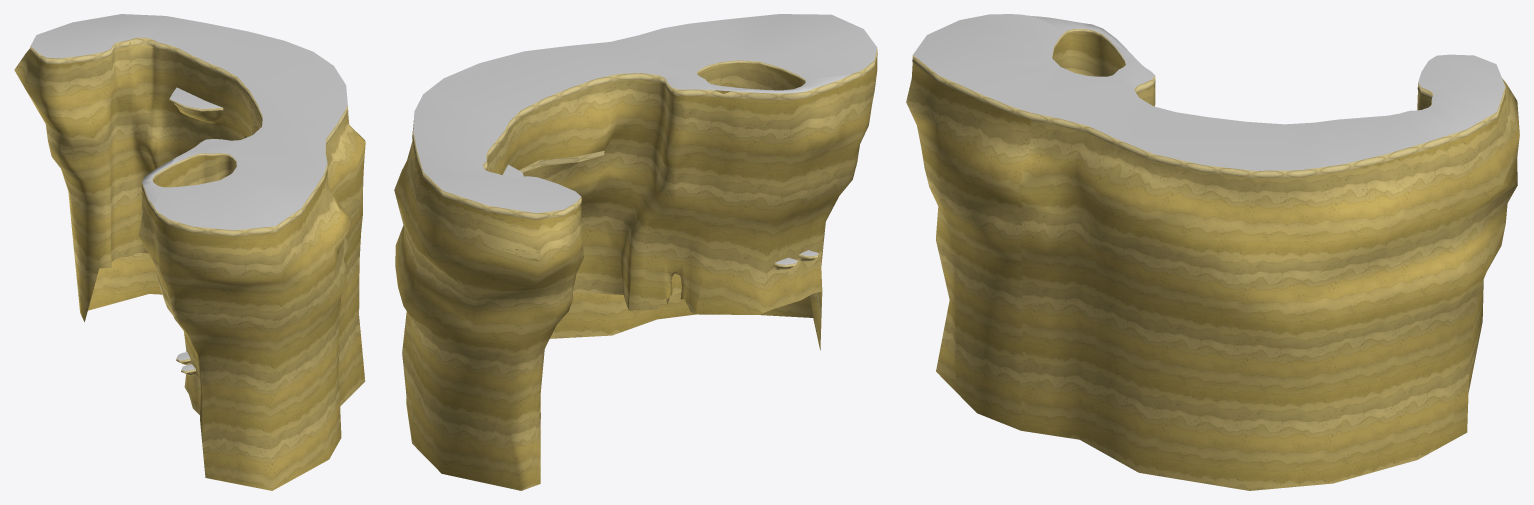
Rendered from big mesh.fbx.
3 views of the same model, side by side, from view 1: azimuth 30°, elevation 25°; view 2: azimuth 150°, elevation 25°; view 3: azimuth 270°, elevation 25° (orthographic). The views are drawn at different scales.
Visible parts, largest first — view 1: polySurface30; view 2: polySurface30; view 3: polySurface30.
Part boxes in pixels (x1=…): polySurface30: x1=14, y1=14, x2=365, y2=490; polySurface30: x1=394, y1=14, x2=877, y2=490; polySurface30: x1=906, y1=14, x2=1519, y2=490.
Bounding box in the file's own units: 2.27 × 1.97 × 3.5.
